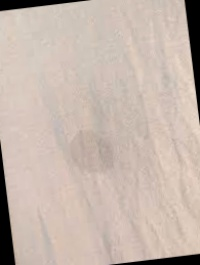oil: (66, 124, 124, 180)
